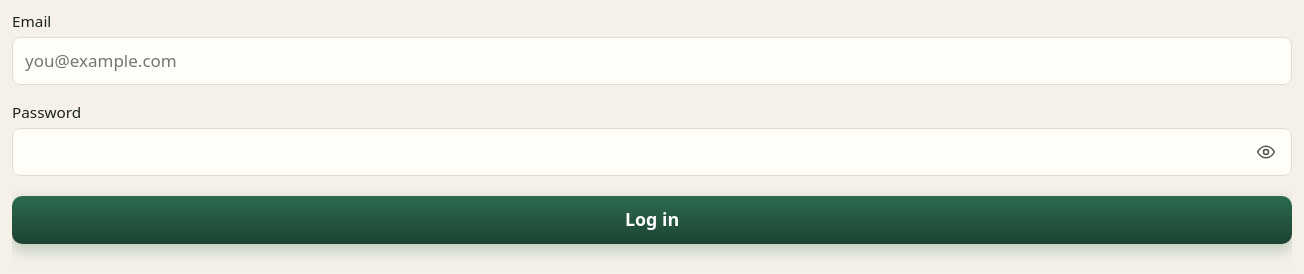
it: AuthForm › shows and hides the password
Click the button named "Show password" at {"x": 1266, "y": 152}, box [1240,128,1292,176]
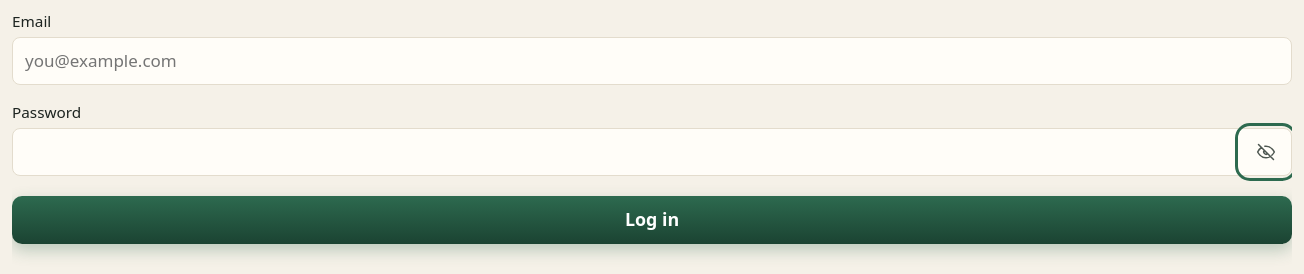
Now the field labelled "Password" shows its text, box [12,128,1292,176]
Click the button named "Hide password" at {"x": 1266, "y": 152}, box [1240,128,1292,176]
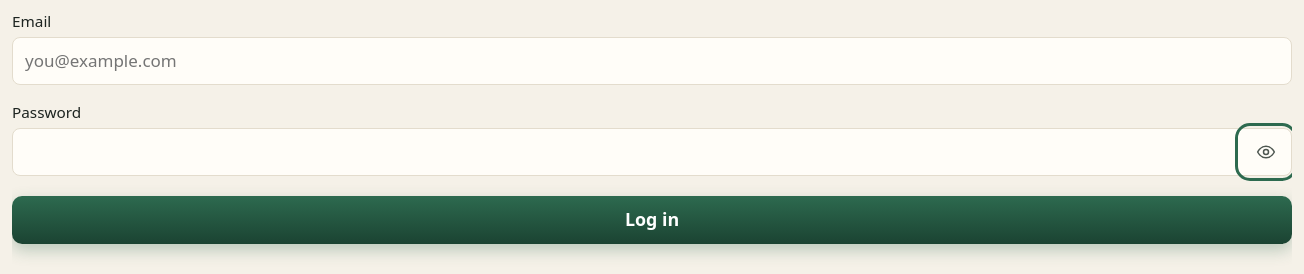
Now the password field labelled "Password" hides its text, box [12,128,1292,176]
